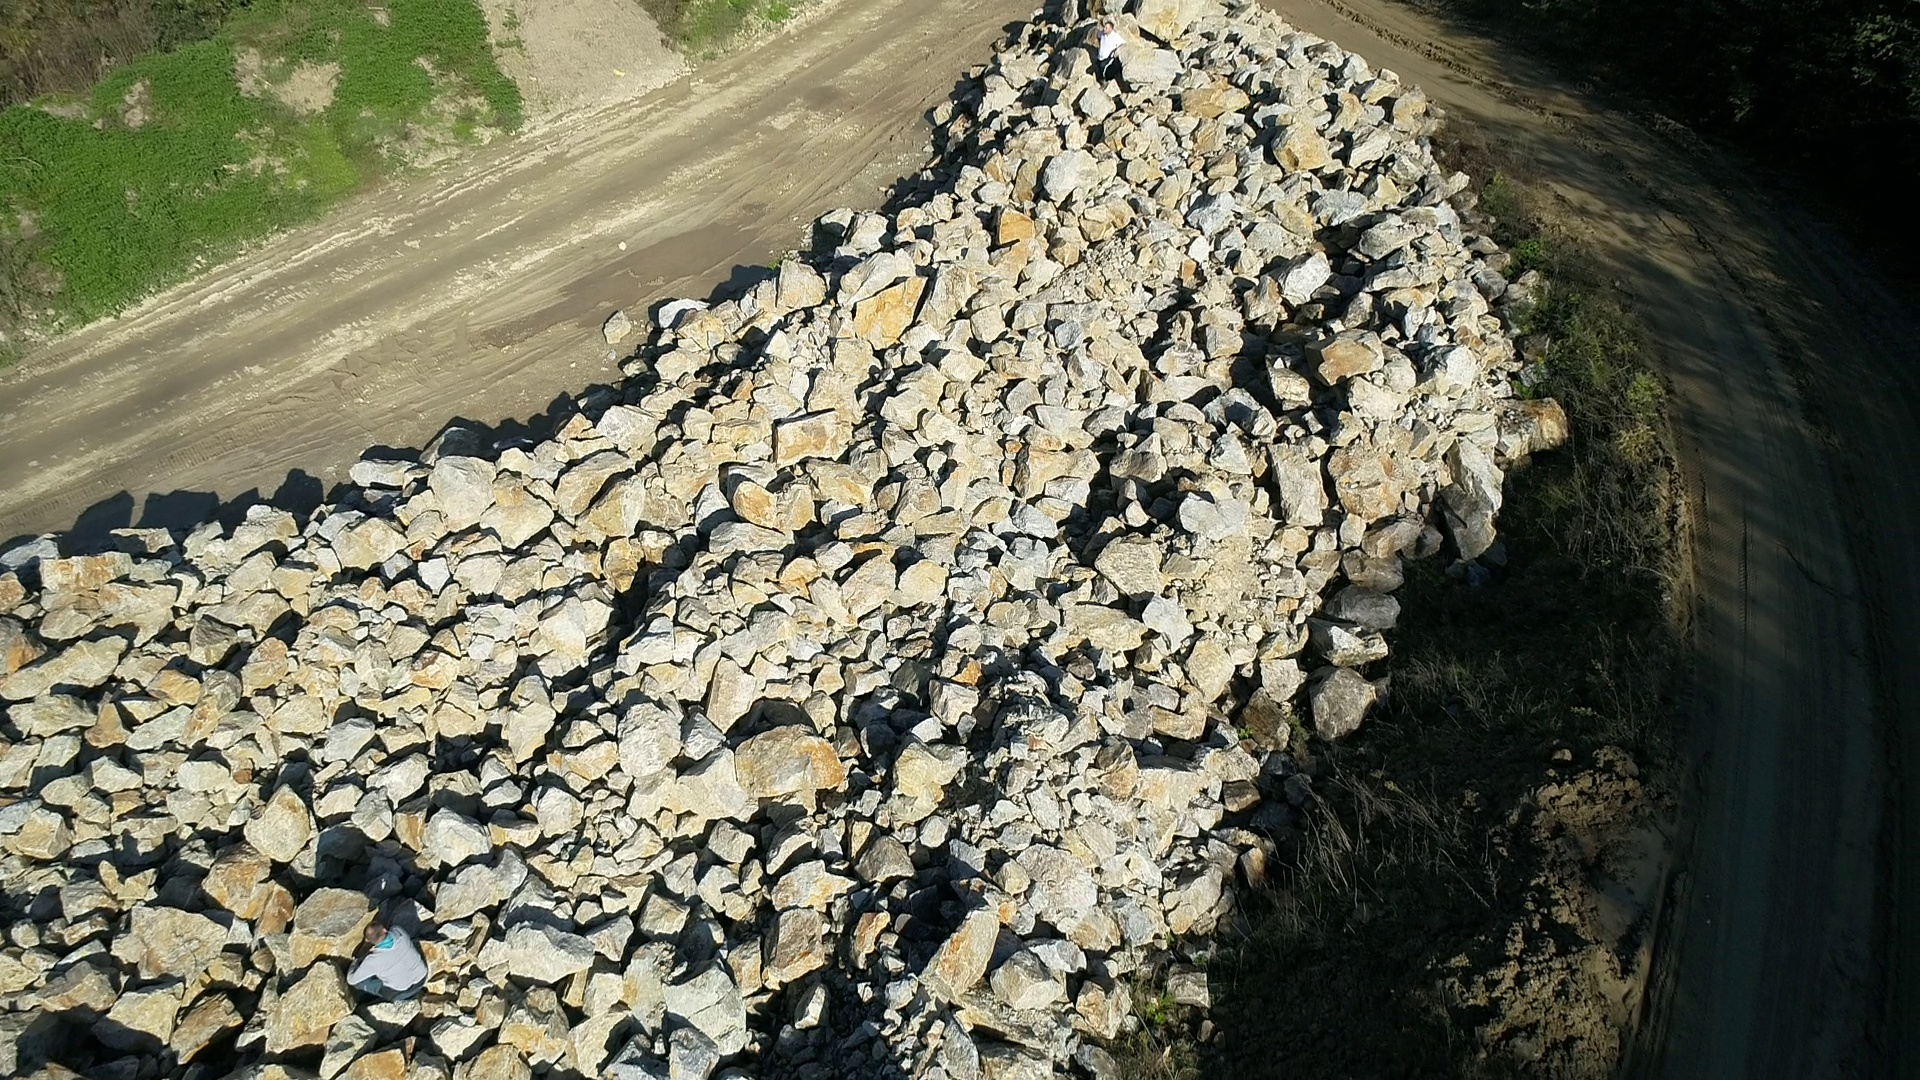person: (346, 920, 429, 1001), (1096, 19, 1126, 89)
